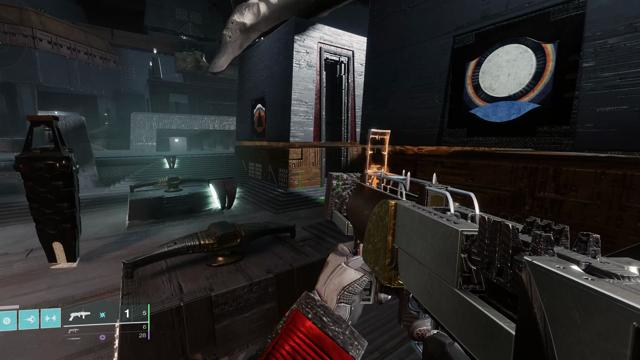pyramid: (253, 103, 266, 133)
traveler: (460, 37, 560, 122)
